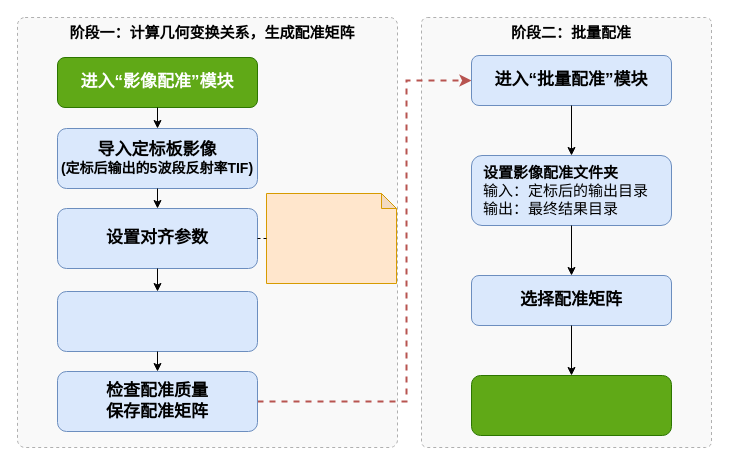
Image size: 729x465. Some labels were removed from this diagram. Each missing label, with the centre of its shape:
"对齐方法： • OpenCV (ECC) • SIFT" belongs at point 331,238.
"波段配准完成" belongs at point 571,405.
"计算配准矩阵" belongs at point 157,321.
